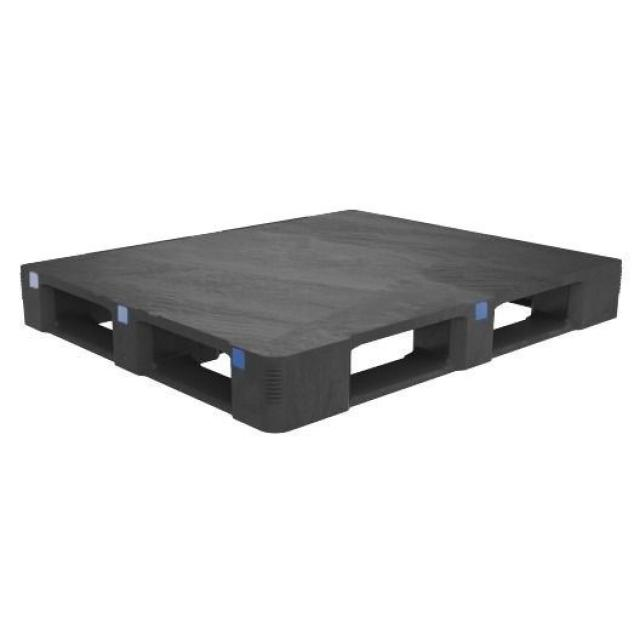non-igps: (15, 202, 628, 440)
